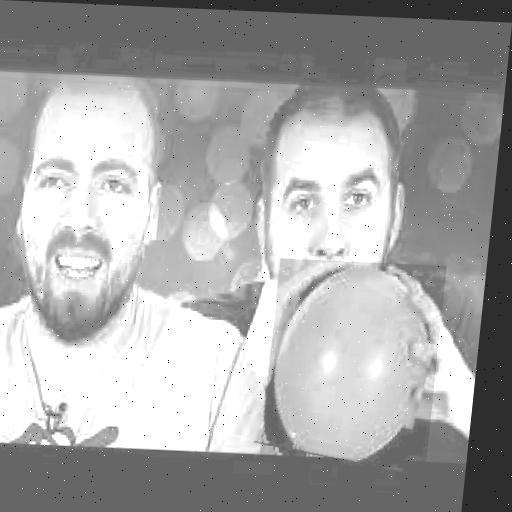balloon: (259, 259, 447, 469)
